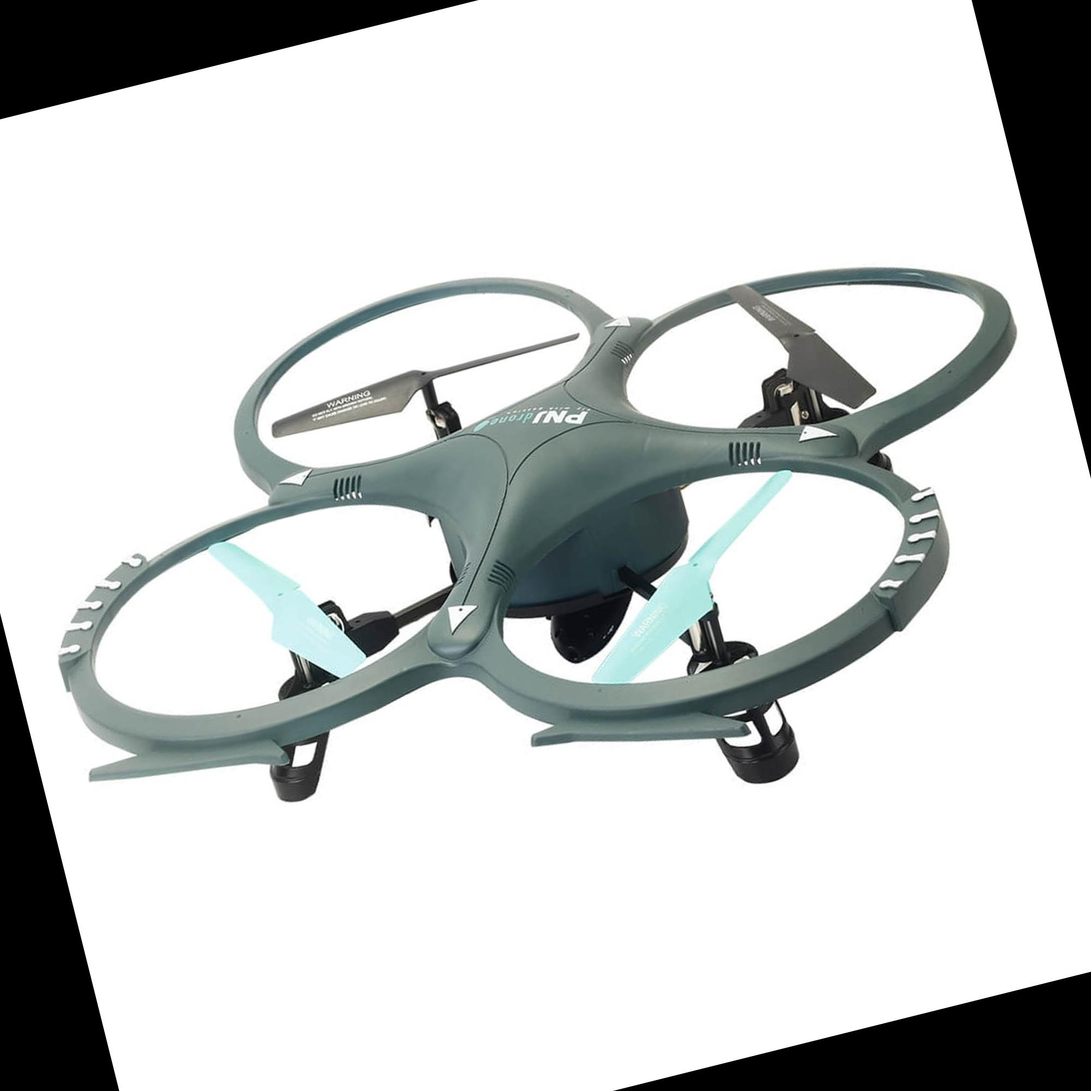drone: (0, 145, 1091, 928)
